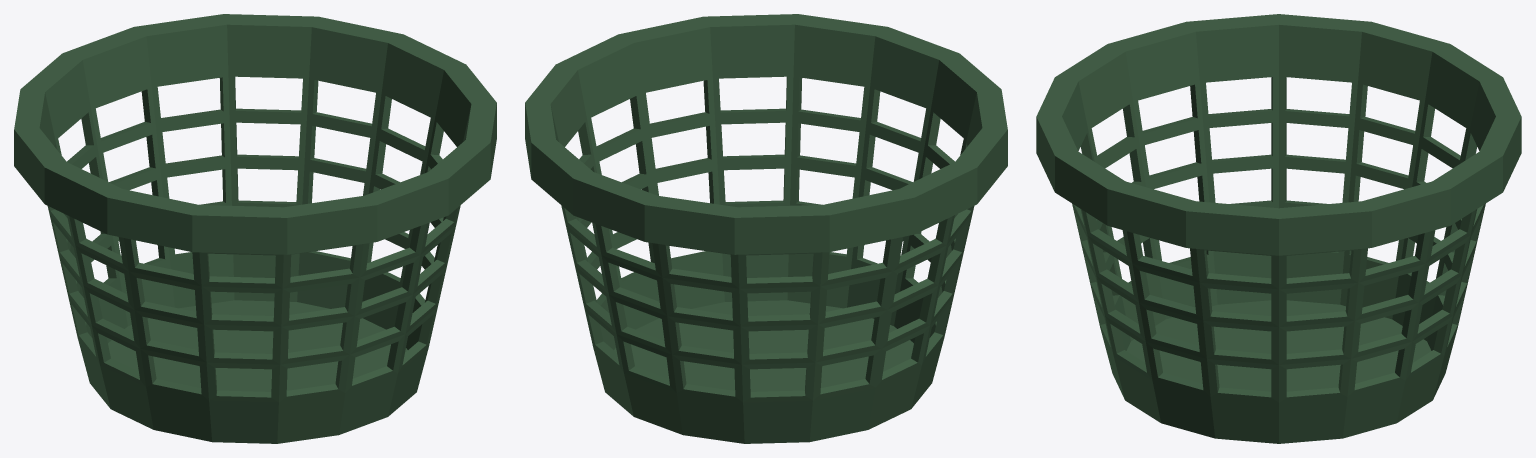
File: Basket.fbx
The picture shows the model from 3 angles, left to right: view 1: azimuth 30°, elevation 25°; view 2: azimuth 150°, elevation 25°; view 3: azimuth 270°, elevation 25°; orthographic projection.
Visible parts, largest first — view 1: Basket.001; view 2: Basket.001; view 3: Basket.001.
Part boxes in pixels (<box>): Basket.001: <box>14,14,496,443</box>; Basket.001: <box>525,14,1007,443</box>; Basket.001: <box>1036,14,1521,443</box>.
Bounding box in the file's own units: 51.49 × 30.1 × 51.49.
